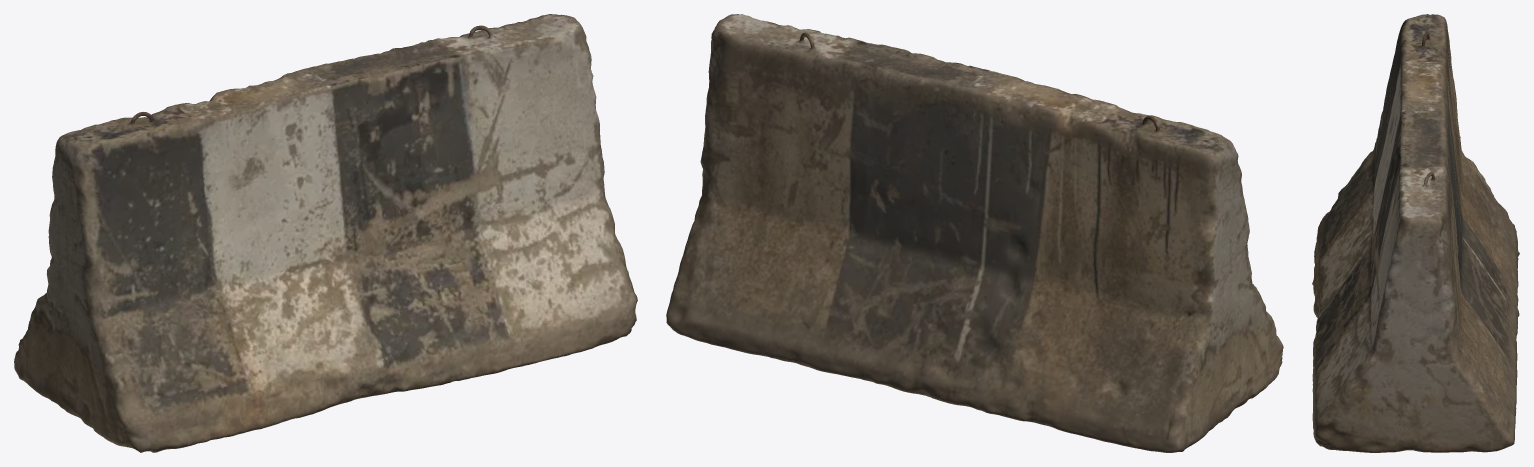
File: concrete_road_barrier.glb
3 renders of one model, left to right at view 1: azimuth 30°, elevation 25°; view 2: azimuth 150°, elevation 25°; view 3: azimuth 270°, elevation 25°, orthographic. The views are drawn at different scales.
Visible parts, largest first — view 1: concrete_road_barrier; view 2: concrete_road_barrier; view 3: concrete_road_barrier.
Part boxes in pixels (box(x1,y1,x2,y2)): concrete_road_barrier: box(14, 14, 637, 452); concrete_road_barrier: box(666, 14, 1283, 452); concrete_road_barrier: box(1312, 14, 1519, 452).
Bounding box in the file's own units: 1.55 × 0.831 × 0.6387.
1 material, 1 textured.
